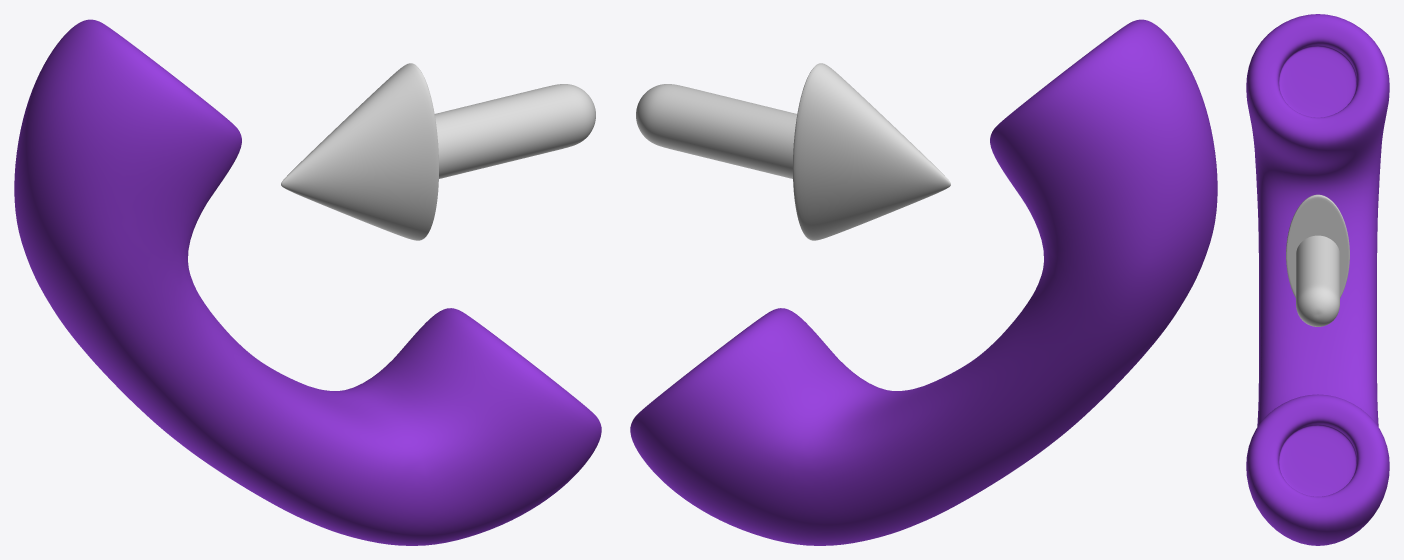
The model's file is call-in.fbx.
3 views of the same model, side by side, from view 1: azimuth 30°, elevation 25°; view 2: azimuth 150°, elevation 25°; view 3: azimuth 270°, elevation 25° (orthographic). The views are drawn at different scales.
Visible parts, largest first — view 1: Phone Income; view 2: Phone Income; view 3: Phone Income.
Part boxes in pixels (x1=…): Phone Income: x1=14, y1=19, x2=601, y2=545; Phone Income: x1=630, y1=19, x2=1217, y2=545; Phone Income: x1=1246, y1=14, x2=1389, y2=545.
Bounding box in the file's own units: 180 × 177 × 57.44.
